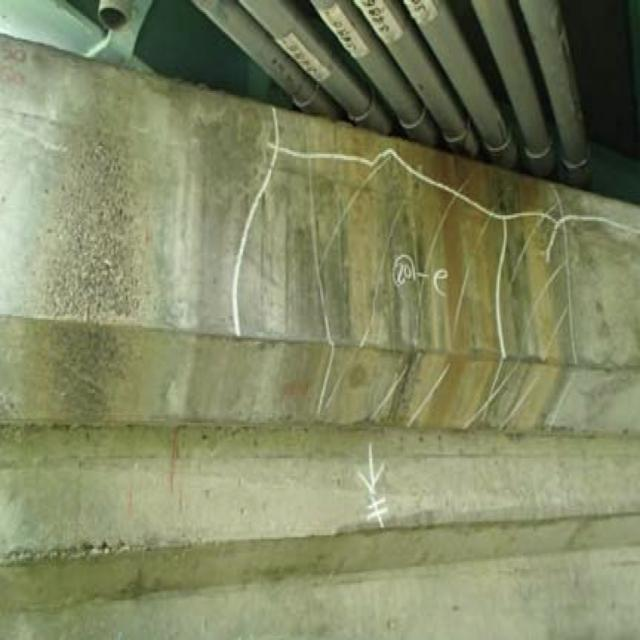leakage: (322, 109, 594, 438)
